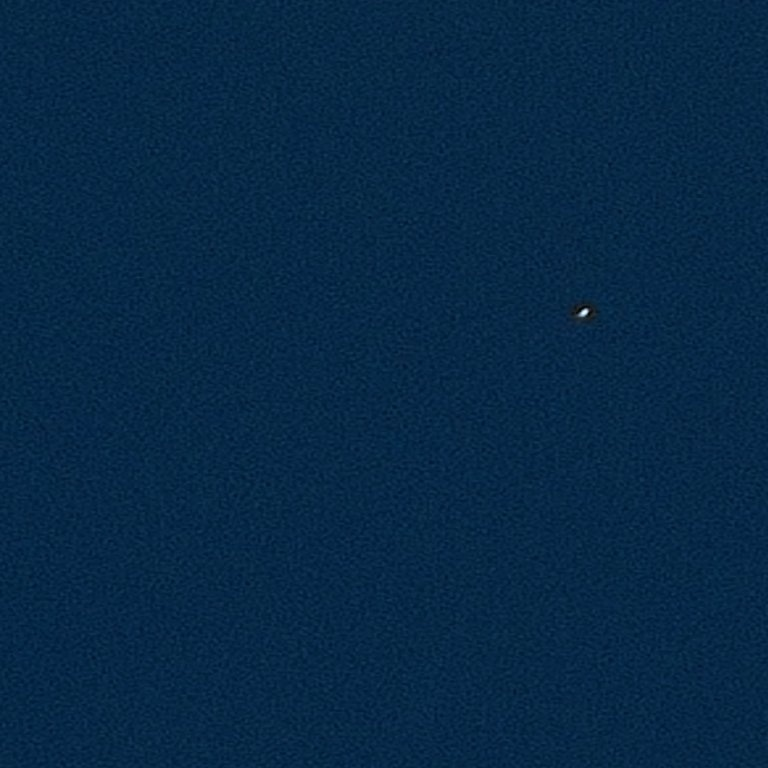ship: (577, 304, 589, 318)
